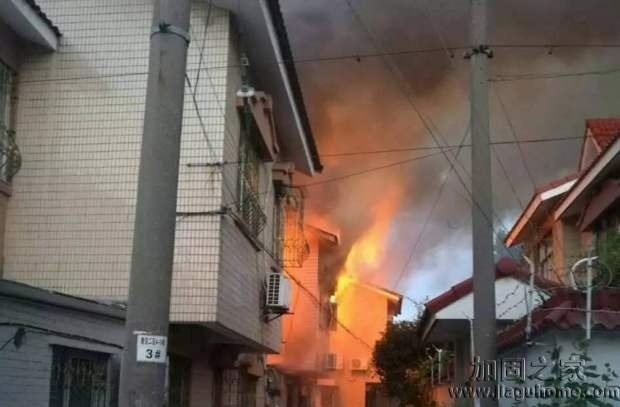fire: (329, 196, 394, 306)
